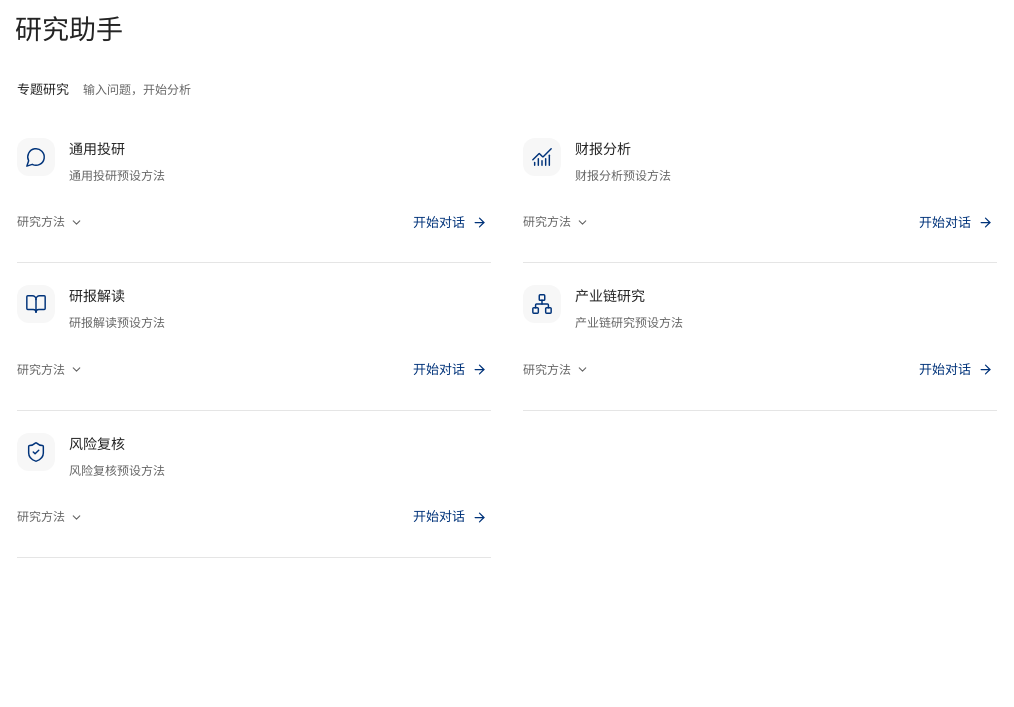
Test case: reveals the preset research method only when requested
Expected: the text "核对原文，保留证据。" is not shown
Click the 2nd heading "研究方法": [556, 222] box left=523, top=214, right=589, bottom=229
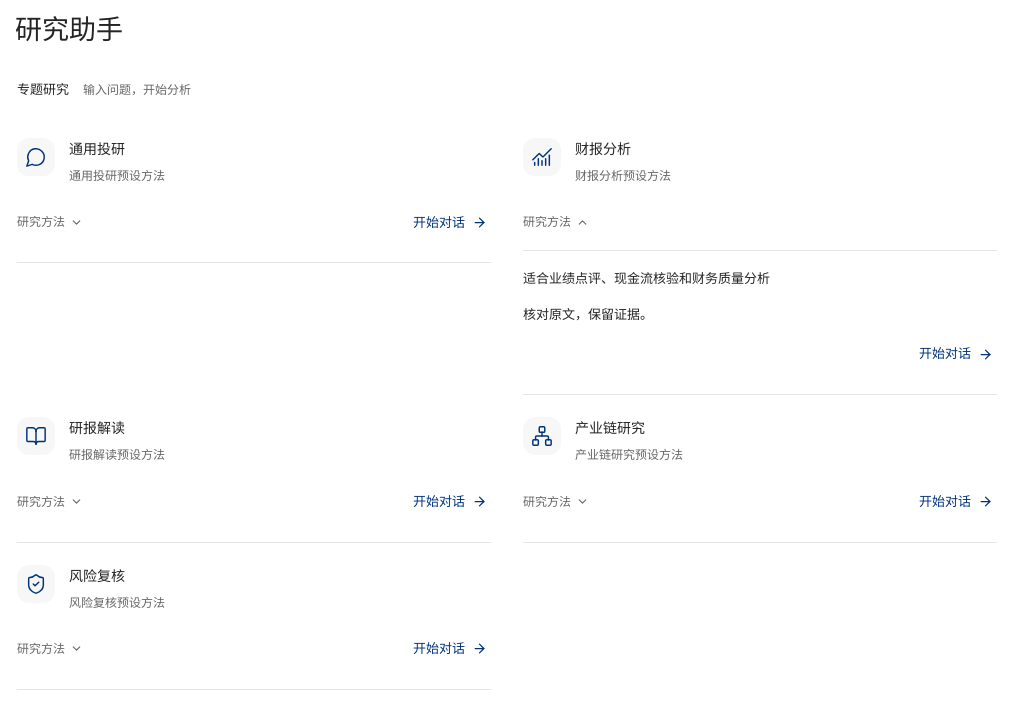
Expected: the text "核对原文，保留证据。" is shown, left=523, top=306, right=653, bottom=322
Click the 2nd heading "研究方法": [556, 222] box left=523, top=214, right=589, bottom=229
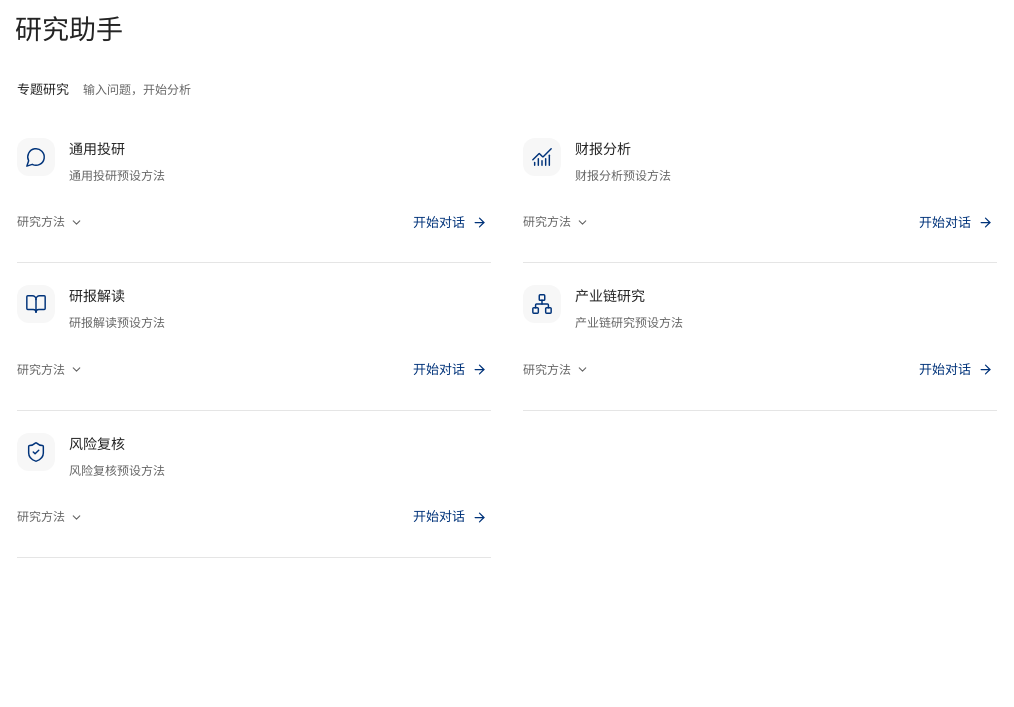
Expected: the text "核对原文，保留证据。" is gone
